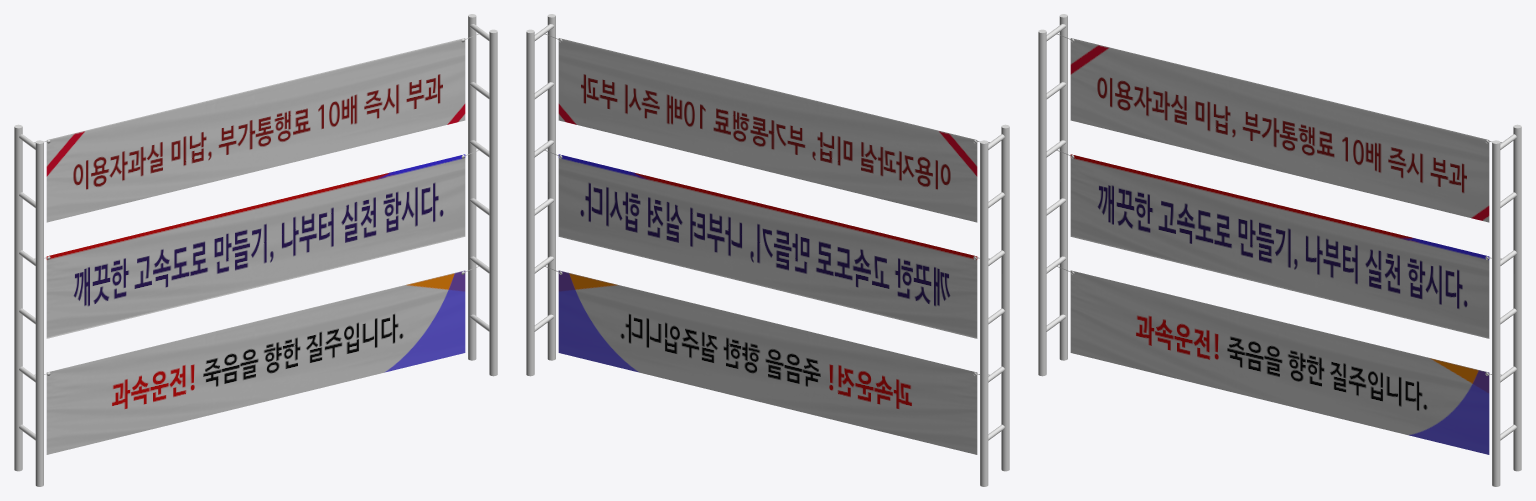
File: TolegateBanner.fbx
3 views of the same model, side by side, from view 1: azimuth 30°, elevation 25°; view 2: azimuth 150°, elevation 25°; view 3: azimuth 330°, elevation 25° (orthographic).
Parts seen in each view (by area): view 1: Plane.002, Plane, Plane.004, Cylinder, Cylinder.001; view 2: Plane.002, Plane, Plane.004, Cylinder, Cylinder.001; view 3: Plane.002, Plane, Plane.004, Cylinder, Cylinder.001.
Boxes of the visible parts, x1,y1,x2,y2 form: Plane.002: (46, 154, 465, 338); Plane: (46, 270, 465, 454); Plane.004: (46, 38, 465, 222); Cylinder: (14, 14, 497, 486); Cylinder.001: (19, 24, 489, 440); Plane.002: (558, 154, 977, 338); Plane: (558, 270, 977, 454); Plane.004: (558, 38, 977, 222); Cylinder: (526, 14, 1009, 486); Cylinder.001: (534, 24, 1004, 440); Plane.002: (1070, 154, 1489, 338); Plane: (1070, 270, 1489, 454); Plane.004: (1070, 38, 1489, 222); Cylinder: (1038, 14, 1521, 486); Cylinder.001: (1046, 24, 1516, 440).
Size of the model in its own units: 8.47 by 6.02 by 0.8134.
Materials: 2 (1 with a texture image).
